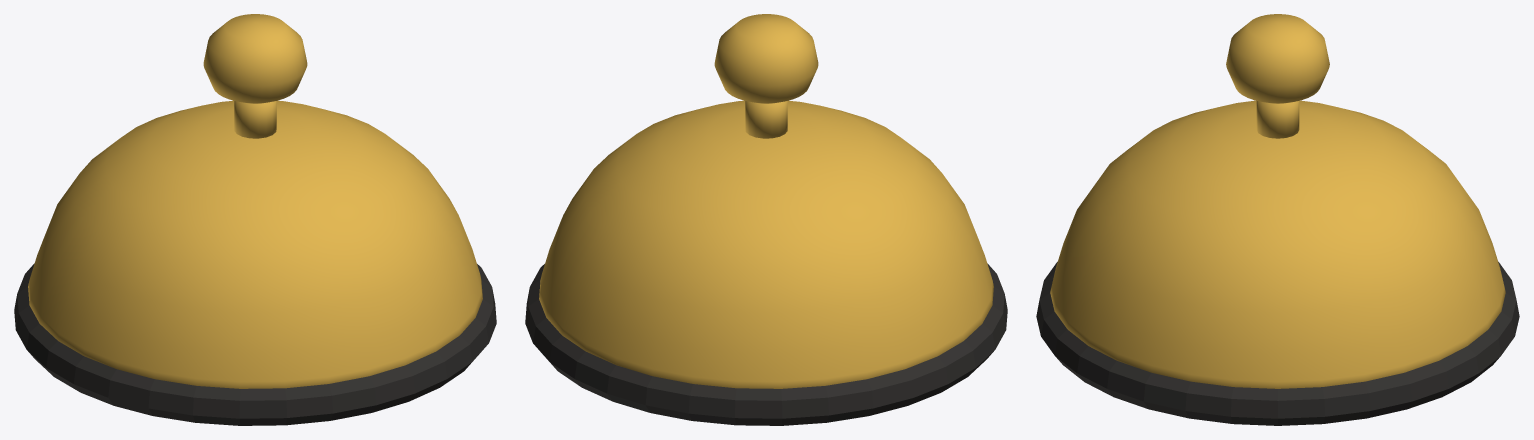
Rendered from desk-bell.glb.
3 renders of one model, left to right at view 1: azimuth 30°, elevation 25°; view 2: azimuth 150°, elevation 25°; view 3: azimuth 270°, elevation 25°, orthographic.
Visible parts, largest first — view 1: DeskBell; view 2: DeskBell; view 3: DeskBell.
Part boxes in pixels (bbox=[...]): DeskBell: bbox=[14, 14, 496, 425]; DeskBell: bbox=[525, 14, 1007, 425]; DeskBell: bbox=[1036, 14, 1519, 425].
Bounding box in the file's own units: 0.2591 × 0.1804 × 0.2591.
